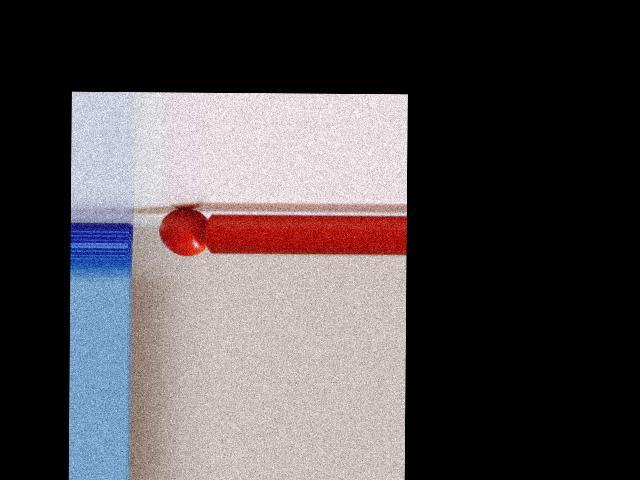tomato: (159, 208, 206, 256)
